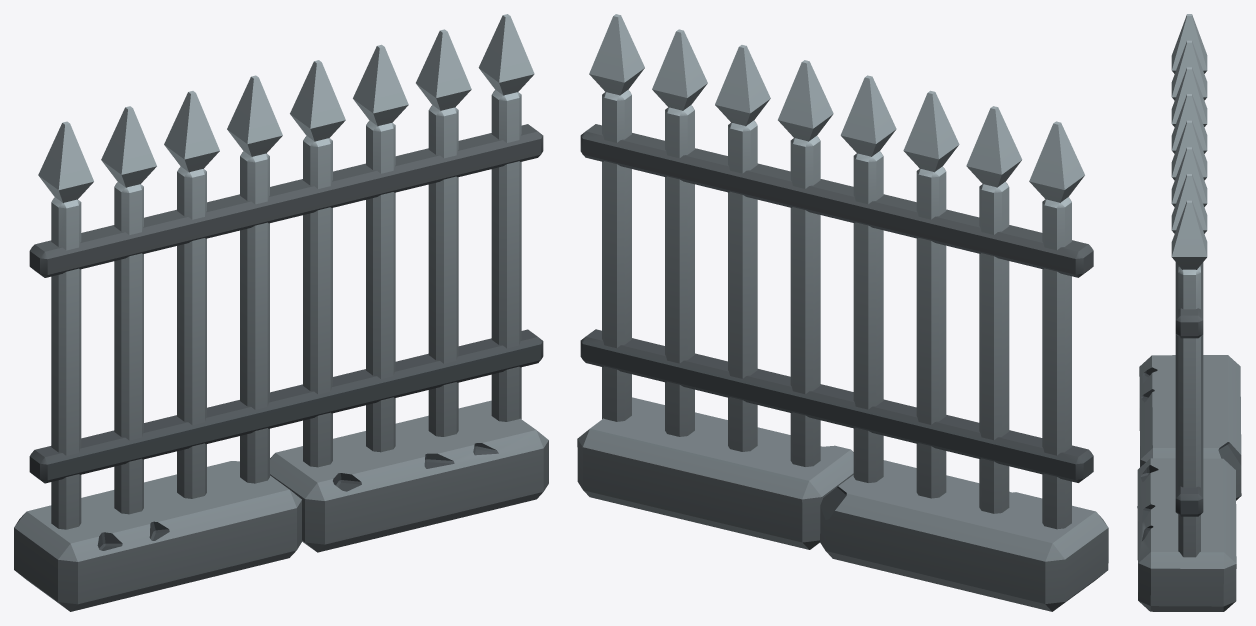
File: graveyard_fence_half.glb
The picture shows the model from 3 angles, left to right: view 1: azimuth 30°, elevation 25°; view 2: azimuth 150°, elevation 25°; view 3: azimuth 270°, elevation 25°; orthographic projection. The views are drawn at different scales.
Visible parts, largest first — view 1: graveyard_fence_half; view 2: graveyard_fence_half; view 3: graveyard_fence_half.
Boxes of the visible parts, x1,y1,x2,y2 form: graveyard_fence_half: (14,14,548,611); graveyard_fence_half: (577,14,1108,611); graveyard_fence_half: (1137,14,1241,611).
Bounding box in the file's own units: 2 × 1.78 × 0.4124.
Materials: 1 (1 with a texture image).
